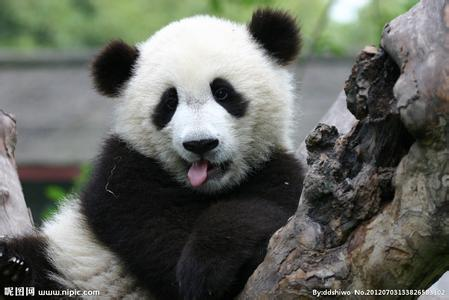panda: (1, 3, 321, 300)
